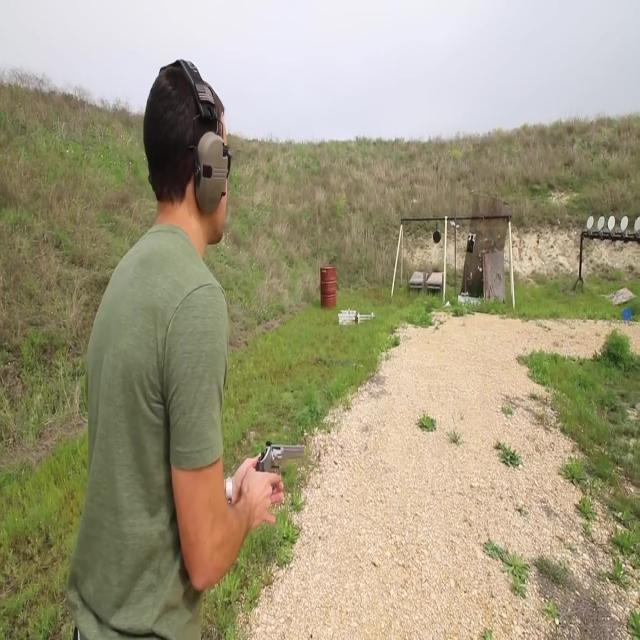Weapon: (240, 418, 332, 524)
